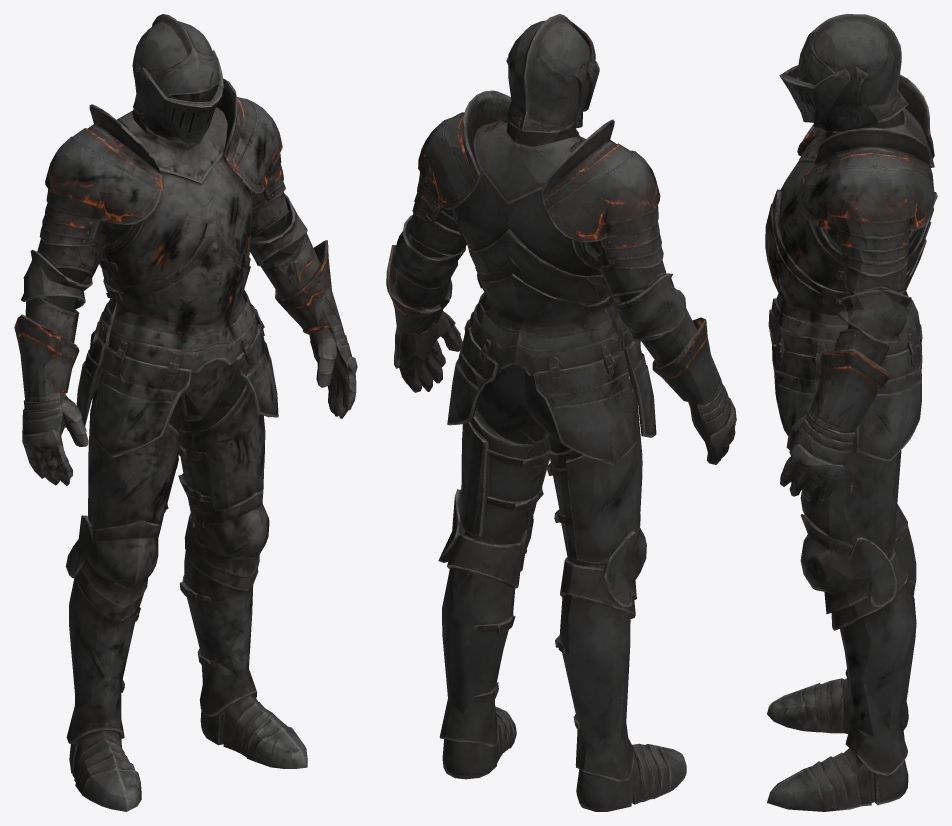
The model's file is model-open.glb.
3 views of the same model, side by side, from view 1: azimuth 30°, elevation 25°; view 2: azimuth 150°, elevation 25°; view 3: azimuth 270°, elevation 25° (orthographic). The views are drawn at different scales.
Visible parts, largest first — view 1: mesh_node; view 2: mesh_node; view 3: mesh_node.
Part boxes in pixels (x1=…): mesh_node: x1=14, y1=14, x2=357, y2=811; mesh_node: x1=386, y1=14, x2=736, y2=811; mesh_node: x1=765, y1=14, x2=937, y2=811.
Size of the model in its own units: 0.8734 by 1.9 by 0.3985.
1 material, 1 textured.
